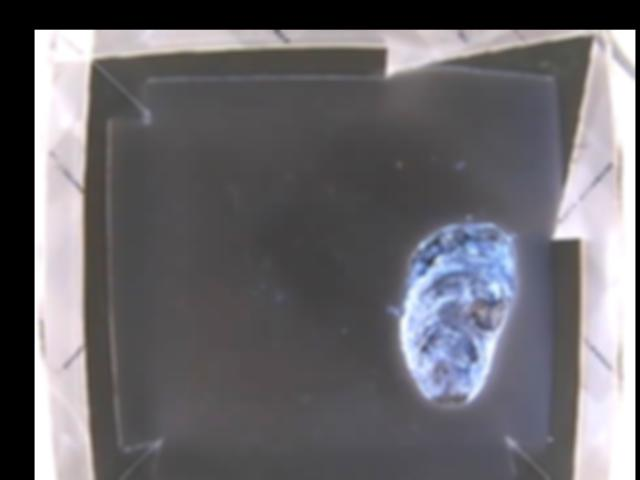Shell: (400, 224, 518, 402)
